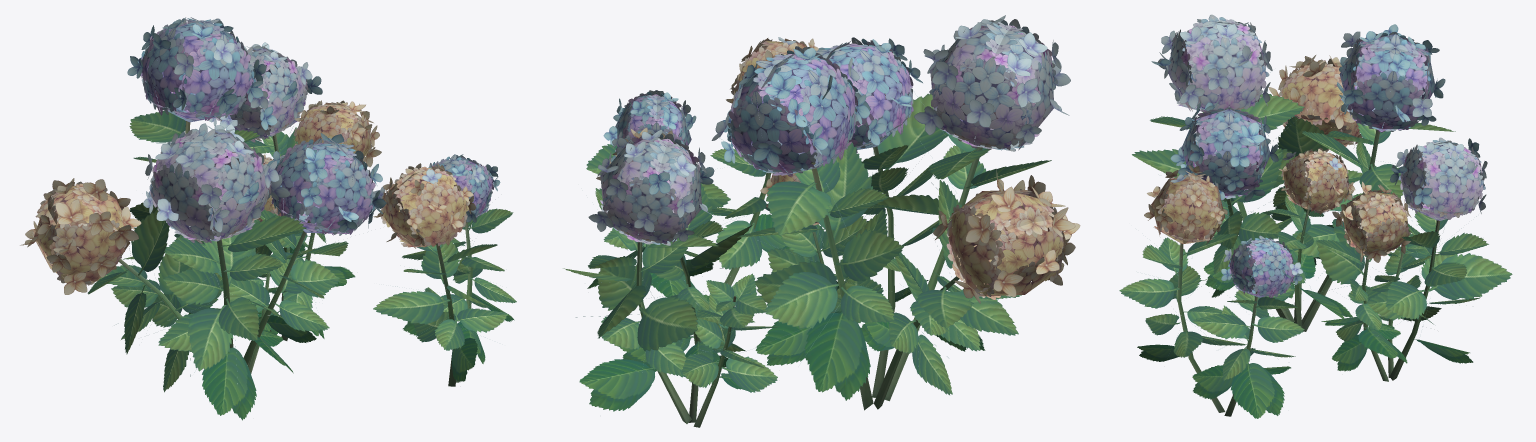
File: Map_Choose_grass04.FBX
3 views of the same model, side by side, from view 1: azimuth 30°, elevation 25°; view 2: azimuth 150°, elevation 25°; view 3: azimuth 270°, elevation 25° (orthographic). The views are drawn at different scales.
Parts seen in each view (by area): view 1: Map_Choose_grass04; view 2: Map_Choose_grass04; view 3: Map_Choose_grass04.
Part boxes in pixels (left/top/right/bottom): Map_Choose_grass04: left=20, top=17, right=516, bottom=420; Map_Choose_grass04: left=563, top=15, right=1080, bottom=427; Map_Choose_grass04: left=1119, top=14, right=1512, bottom=418.
Size of the model in its own units: 212 by 150 by 181.
1 material, 1 textured.
